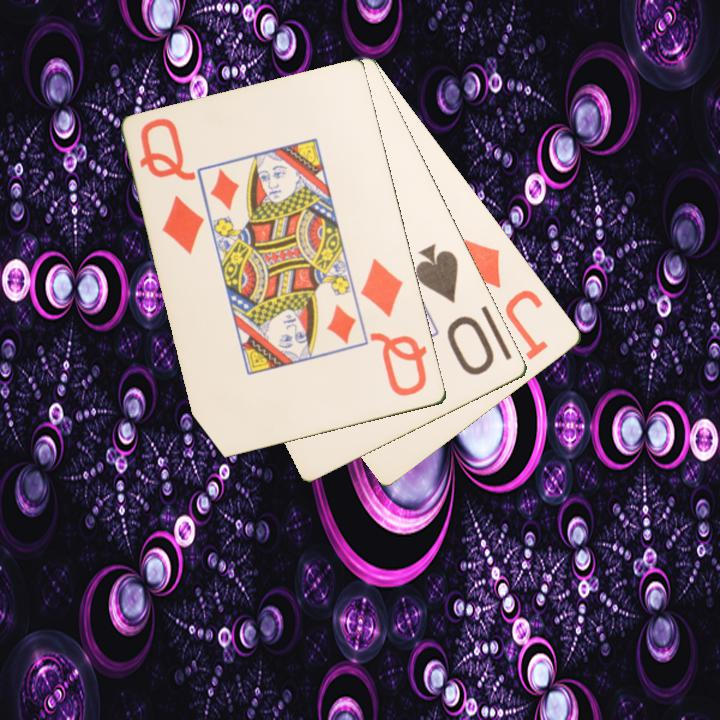10s: (412, 240, 498, 379)
Jd: (458, 235, 552, 363)
Qd: (357, 255, 431, 400), (136, 112, 208, 258)
